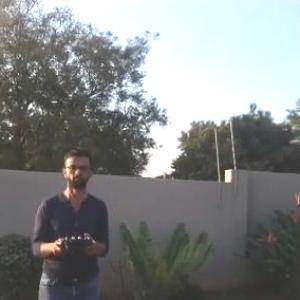follow: (24, 140, 114, 299)
